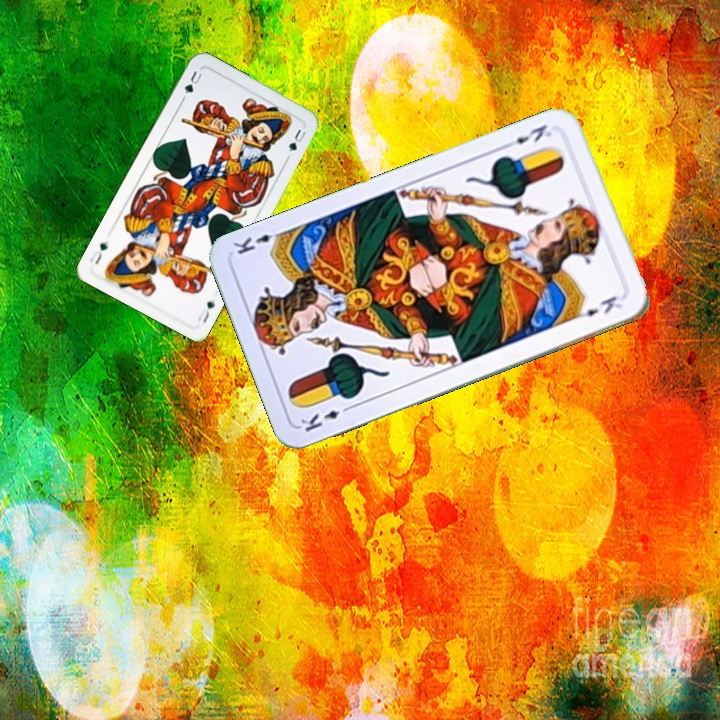EK: (296, 401, 354, 435), (502, 120, 559, 151)
GU: (180, 67, 205, 97), (193, 297, 218, 326)
